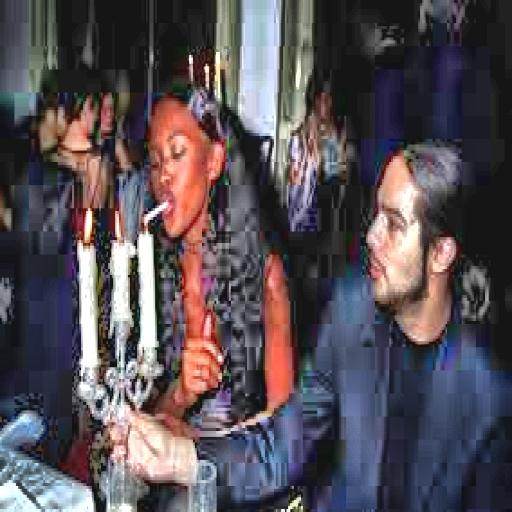fire: (72, 200, 96, 243), (110, 205, 126, 240)
